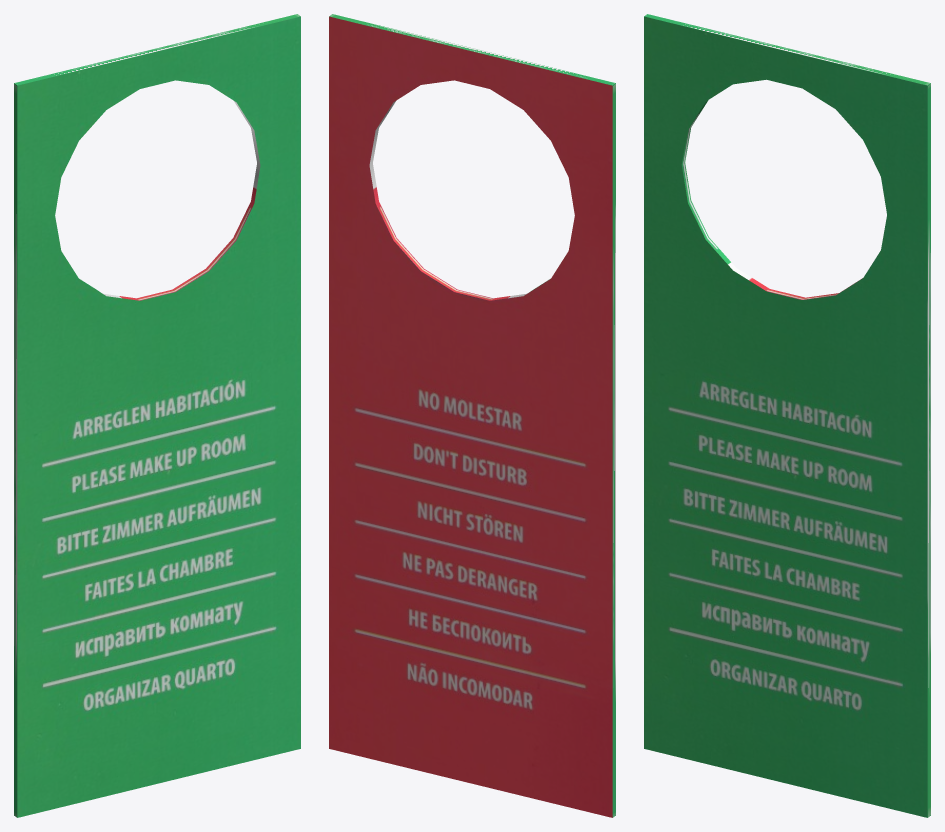
File: Door poster.FBX
The picture shows the model from 3 angles, left to right: view 1: azimuth 30°, elevation 25°; view 2: azimuth 150°, elevation 25°; view 3: azimuth 330°, elevation 25°; orthographic projection.
Visible parts, largest first — view 1: door poster; view 2: door poster; view 3: door poster.
Part boxes in pixels (x1,y1,x2,y2): door poster: (14,14,300,817); door poster: (329,14,615,817); door poster: (644,14,930,817).
Bounding box in the file's own units: 7.25 × 17.91 × 0.1497.
1 material, 1 textured.
